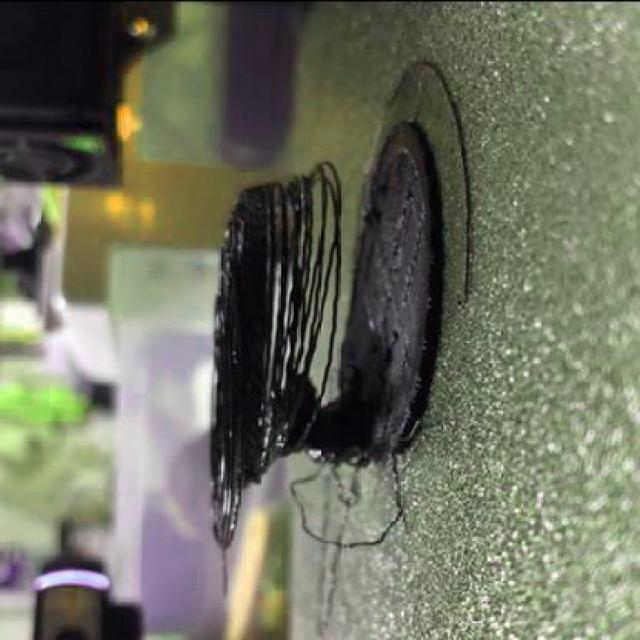spaghetti: (268, 159, 341, 452), (286, 453, 403, 550), (219, 549, 232, 602)
